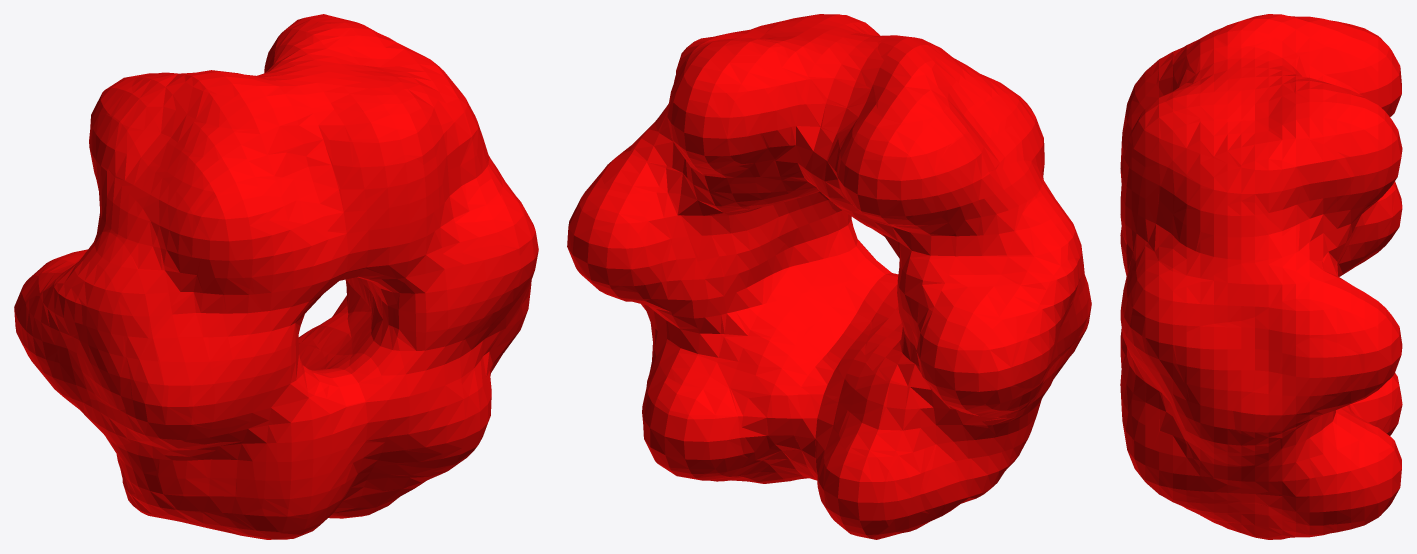
Rendered from recA_coarse.dae.
3 renders of one model, left to right at view 1: azimuth 30°, elevation 25°; view 2: azimuth 150°, elevation 25°; view 3: azimuth 270°, elevation 25°, orthographic. The views are drawn at different scales.
Parts seen in each view (by area): view 1: recA; view 2: recA; view 3: recA.
Part boxes in pixels (x1,y1,x2,y2): recA: [14, 14, 538, 539]; recA: [567, 14, 1091, 539]; recA: [1120, 14, 1402, 539].
Size of the model in its own units: 125 by 120 by 67.62.
